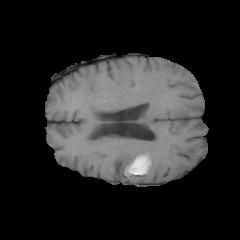glioma: (83, 137, 159, 180)
